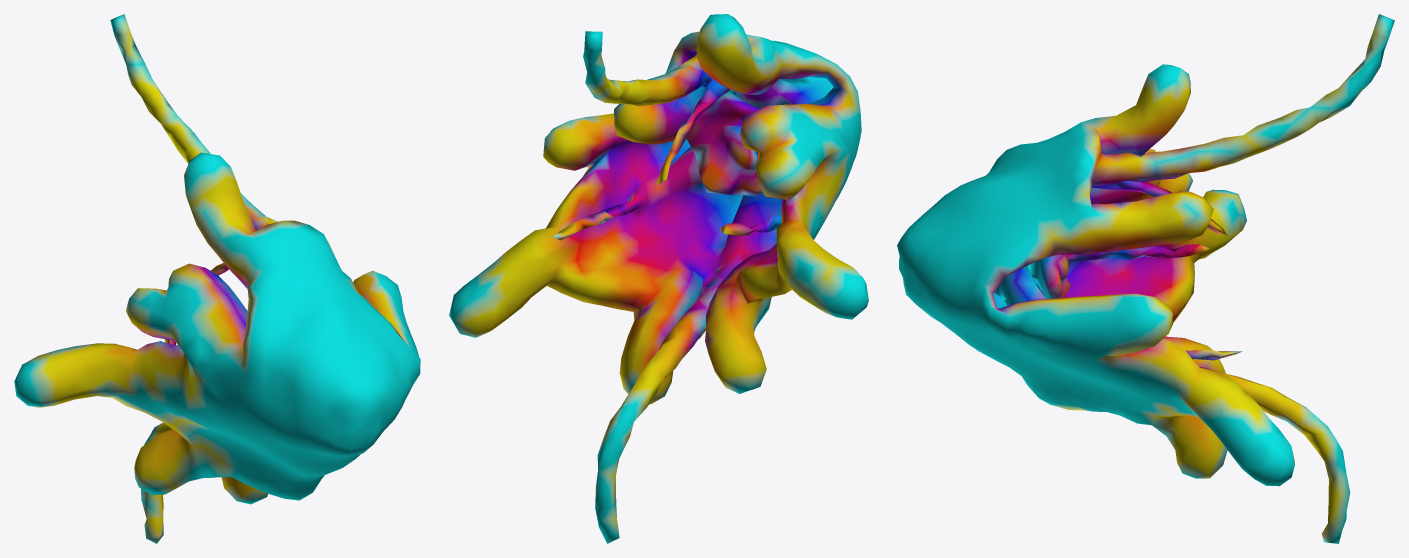
File: jelly_83.gltf
3 views of the same model, side by side, from view 1: azimuth 30°, elevation 25°; view 2: azimuth 150°, elevation 25°; view 3: azimuth 270°, elevation 25° (orthographic). The views are drawn at different scales.
Visible parts, largest first — view 1: jellysquid3; view 2: jellysquid3; view 3: jellysquid3.
Boxes of the visible parts, <box> form: jellysquid3: <box>14,14,420,543</box>; jellysquid3: <box>449,14,868,543</box>; jellysquid3: <box>897,14,1394,543</box>.
Size of the model in its own units: 10.38 by 13.62 by 11.75.
